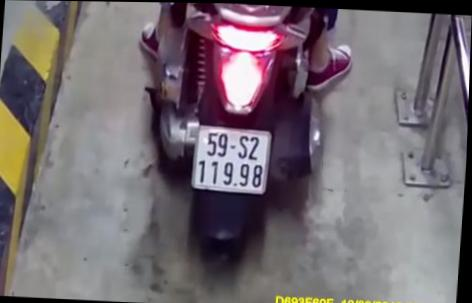LP: (190, 120, 273, 195)
